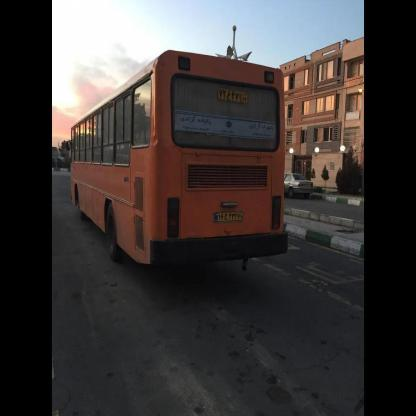Bus: (71, 37, 288, 287)
Car: (283, 163, 314, 196)
